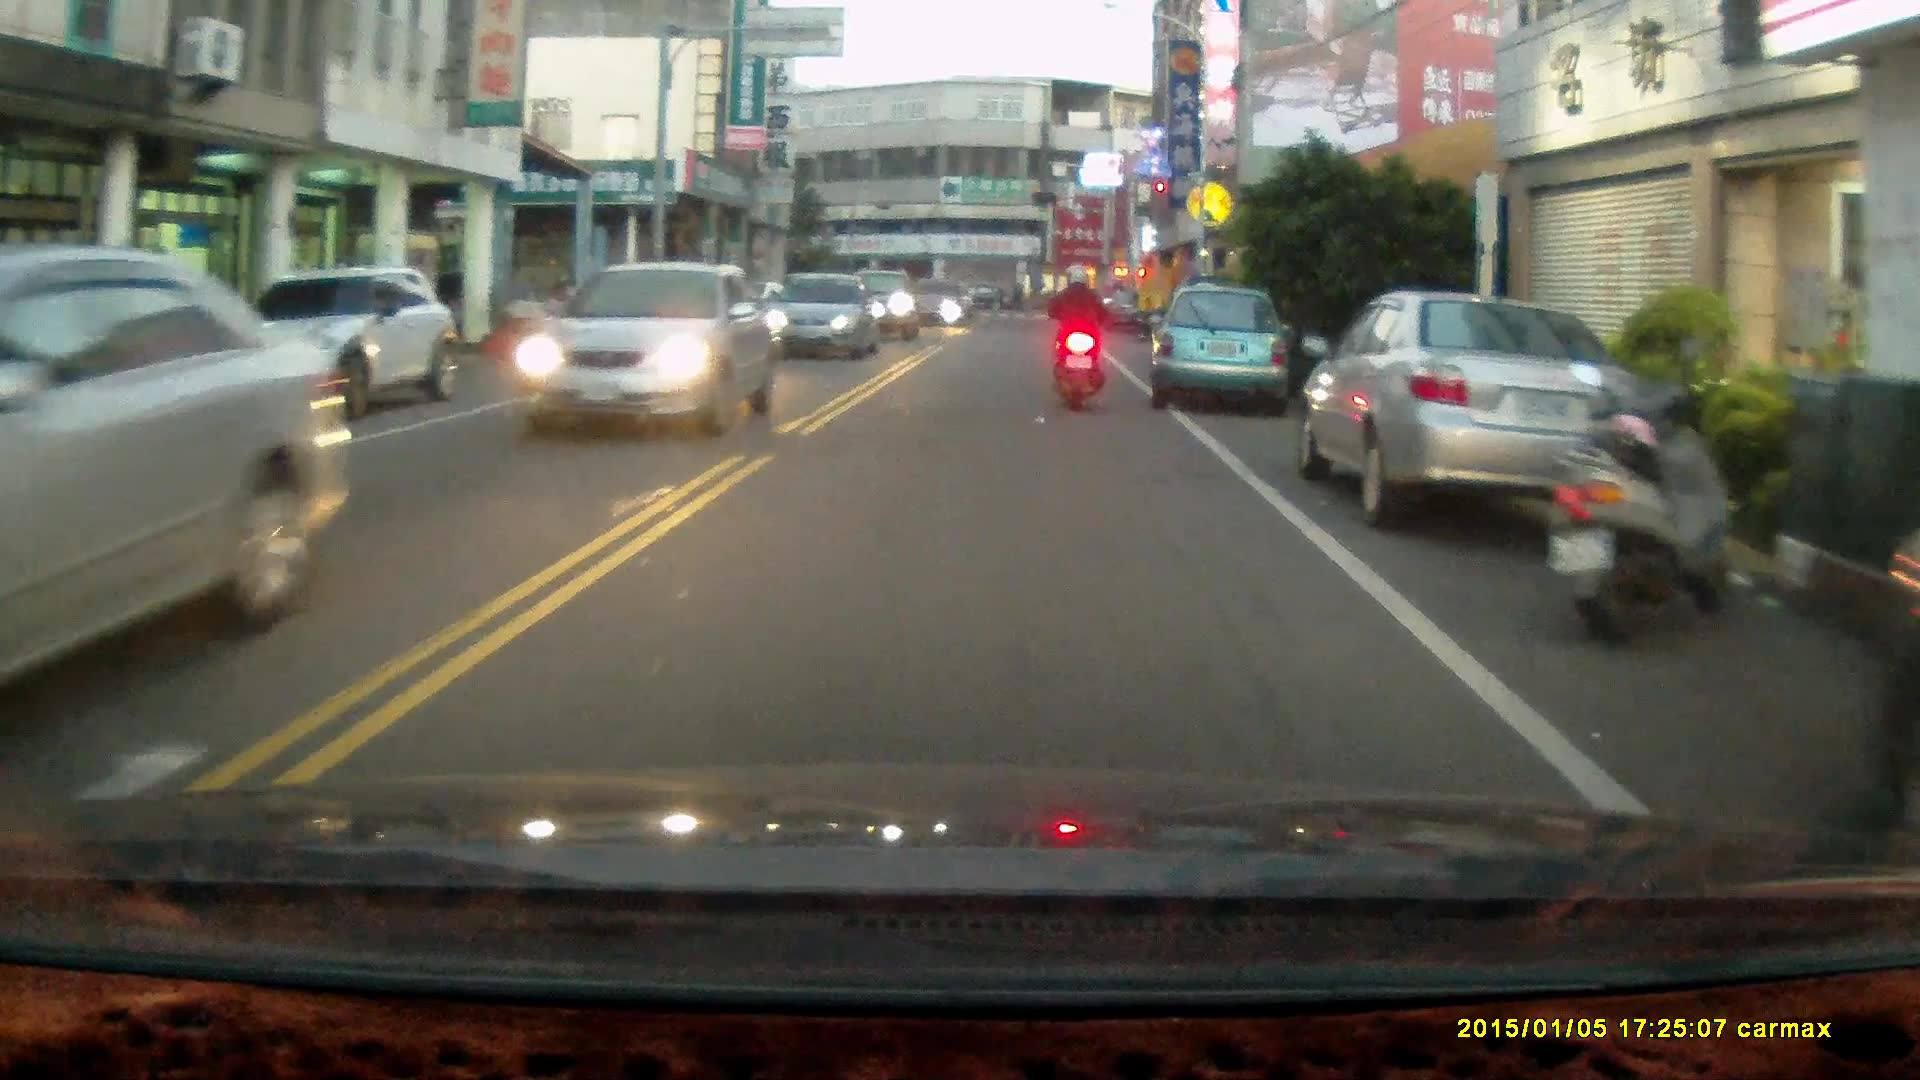rider: (1044, 262, 1111, 411)
vehicle: (3, 246, 343, 737), (1290, 293, 1664, 529), (513, 267, 783, 438), (227, 268, 471, 411), (1149, 282, 1296, 421), (761, 275, 882, 364)
